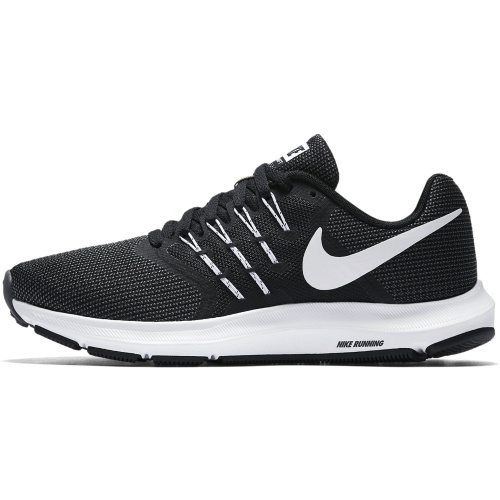nike: (298, 209, 465, 300)
